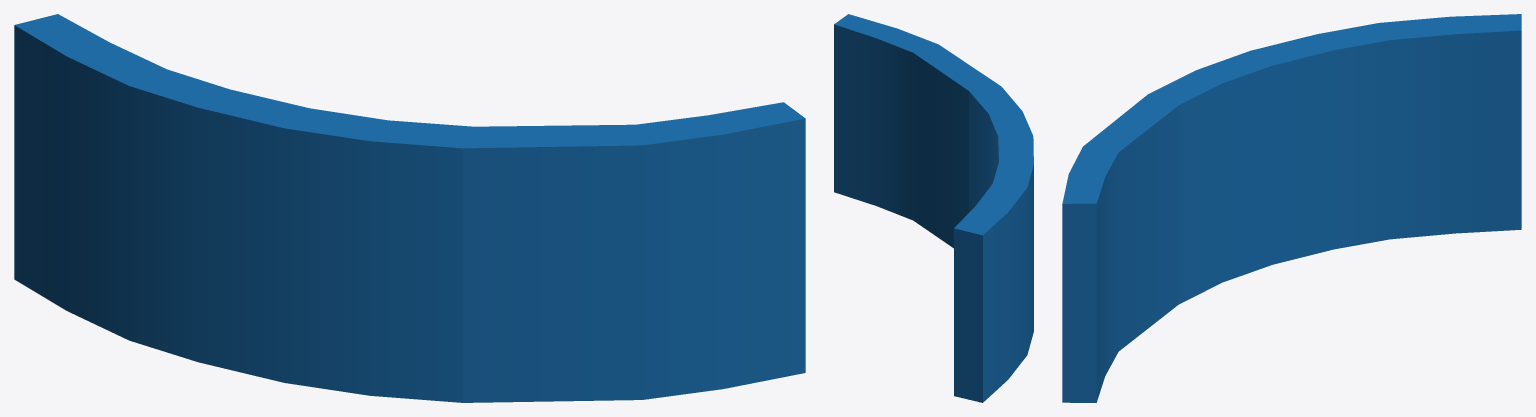
The model's file is Edge_Turn_90_01.fbx.
3 renders of one model, left to right at view 1: azimuth 30°, elevation 25°; view 2: azimuth 150°, elevation 25°; view 3: azimuth 270°, elevation 25°, orthographic. The views are drawn at different scales.
Visible parts, largest first — view 1: Edge_Turn_90_01; view 2: Edge_Turn_90_01; view 3: Edge_Turn_90_01.
Part boxes in pixels (box(x1,y1,x2,y2)): Edge_Turn_90_01: box(14, 14, 805, 402); Edge_Turn_90_01: box(834, 14, 1033, 402); Edge_Turn_90_01: box(1062, 14, 1521, 402).
Bounding box in the file's own units: 5.85 × 2.86 × 5.98.
